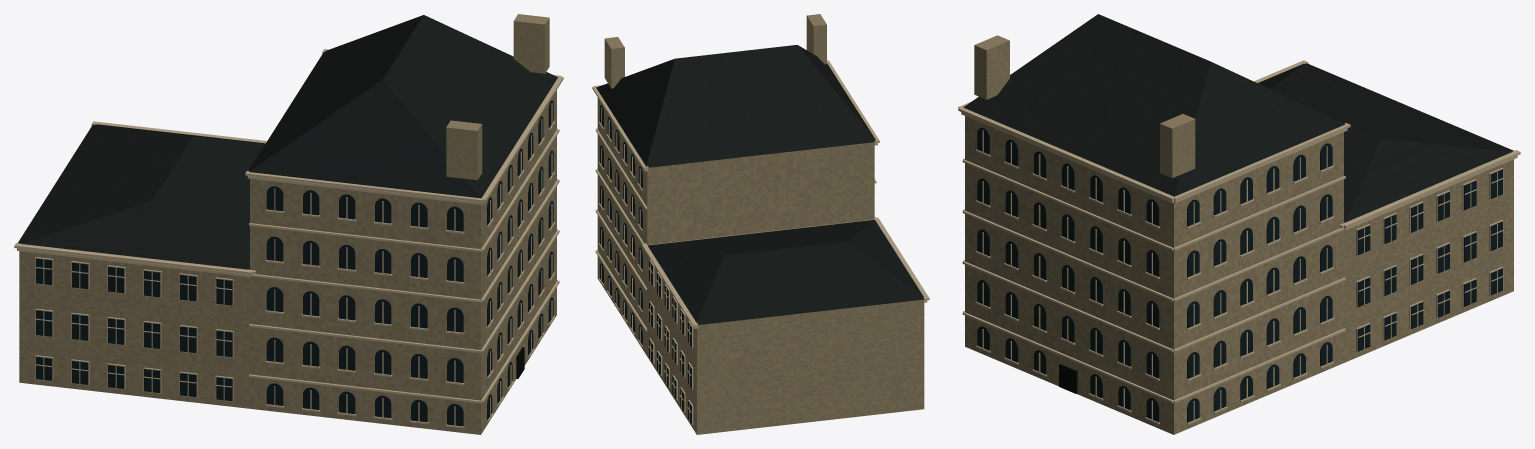
3 renders of one model, left to right at view 1: azimuth 30°, elevation 25°; view 2: azimuth 150°, elevation 25°; view 3: azimuth 270°, elevation 25°, orthographic. The views are drawn at different scales.
Visible parts, largest first — view 1: nationale-boompjes-0, nationale-boompjes-1, nationale-boompjes-2, nationale-boompjes-3; view 2: nationale-boompjes-0, nationale-boompjes-1, nationale-boompjes-3, nationale-boompjes-2; view 3: nationale-boompjes-0, nationale-boompjes-1, nationale-boompjes-2, nationale-boompjes-3.
Part boxes in pixels (x1=…): nationale-boompjes-0: x1=19, y1=14, x2=556, y2=434; nationale-boompjes-1: x1=18, y1=15, x2=557, y2=269; nationale-boompjes-2: x1=36, y1=100, x2=553, y2=426; nationale-boompjes-3: x1=14, y1=49, x2=563, y2=428; nationale-boompjes-0: x1=597, y1=14, x2=924, y2=434; nationale-boompjes-1: x1=596, y1=45, x2=924, y2=324; nationale-boompjes-3: x1=592, y1=60, x2=929, y2=424; nationale-boompjes-2: x1=600, y1=105, x2=691, y2=423; nationale-boompjes-0: x1=965, y1=35, x2=1513, y2=434; nationale-boompjes-1: x1=963, y1=14, x2=1513, y2=222; nationale-boompjes-2: x1=977, y1=127, x2=1502, y2=422; nationale-boompjes-3: x1=958, y1=60, x2=1520, y2=424.
Bounding box in the file's own units: 51.43 × 32 × 51.43.
Materials: 5 (5 with a texture image).
